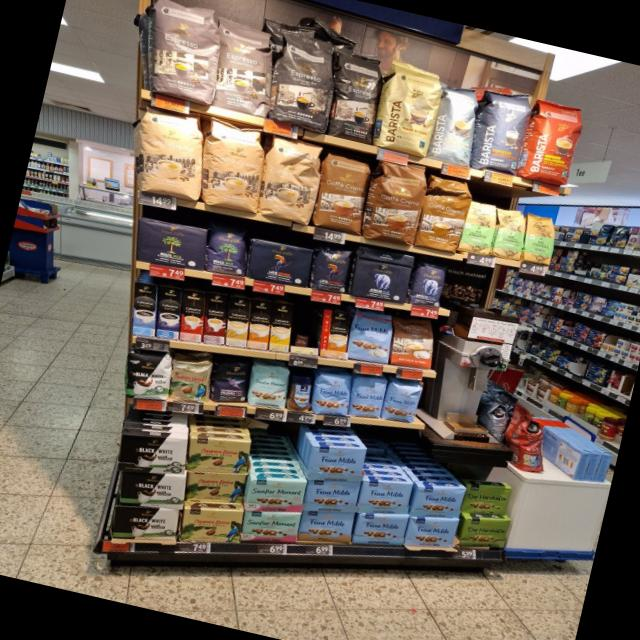AB Bohne: (410, 260, 448, 309)
AB Gemahlen: (349, 257, 411, 305)
Athiopien Bohne: (522, 212, 557, 266)
Athiopien Gemahlen: (457, 199, 498, 256), (493, 206, 527, 261)
BM Bohne: (205, 220, 250, 278)
BM Gemahlen: (138, 215, 207, 272)
BW Bohne: (124, 349, 172, 401)
BW Gemahlen: (118, 433, 187, 474), (119, 469, 186, 510), (112, 504, 180, 541)
Barista CB: (372, 58, 446, 158)
Barista CC: (426, 82, 485, 166)
Barista Espresso: (470, 86, 536, 176)
Barista Kolumbien: (518, 98, 588, 188)
C Fino Bohne: (209, 358, 252, 404)
CC Mild: (203, 118, 267, 214), (140, 106, 203, 203), (259, 133, 324, 226)
CC Vollmundig: (389, 314, 436, 369)
CC Vollmundig 36 Pads: (366, 159, 430, 247), (312, 150, 373, 236), (415, 173, 474, 254)
Colombia BB Bohne: (170, 357, 212, 404)
Colombia BB Gemahlen: (187, 435, 251, 473), (179, 507, 244, 543), (185, 471, 248, 504)
Empty Shelf: (291, 303, 321, 348)
Espresso Aromatisch: (214, 15, 274, 117)
Espresso Kraftig: (331, 49, 384, 146)
Espresso M Art: (151, 0, 217, 106)
Espresso S Art: (275, 29, 336, 135)
FM 36 Pads: (347, 308, 395, 364)
FM Bohne: (348, 373, 389, 420), (381, 379, 424, 423), (312, 371, 353, 417)
FM Gemahlen: (306, 445, 368, 482), (409, 484, 467, 519), (302, 479, 361, 513), (357, 480, 414, 515), (352, 512, 409, 546), (296, 511, 356, 543), (404, 516, 460, 548)
FM Instant: (286, 370, 315, 413)
Herzhatfe Mundig: (461, 483, 513, 517), (458, 516, 512, 548)
LG Bohne: (311, 245, 354, 294)
LG Gemahlen: (247, 238, 314, 288)
SM Bohne: (247, 361, 291, 410)
SM Gemahlen: (244, 476, 307, 512), (240, 511, 303, 544)
Simo CCMild bigpack: (268, 301, 293, 352)
Simo CCVollmundig: (319, 308, 350, 359)
Simo CCVollmundig bigpack: (246, 298, 271, 349)
Simo Decaff: (225, 294, 250, 346)
Simo Es Brazil: (179, 288, 205, 342)
Simo Es Caramel: (202, 291, 228, 344)
Simo Es Kraft: (156, 284, 181, 340)
Simo Es Vanilla: (132, 281, 157, 337)
